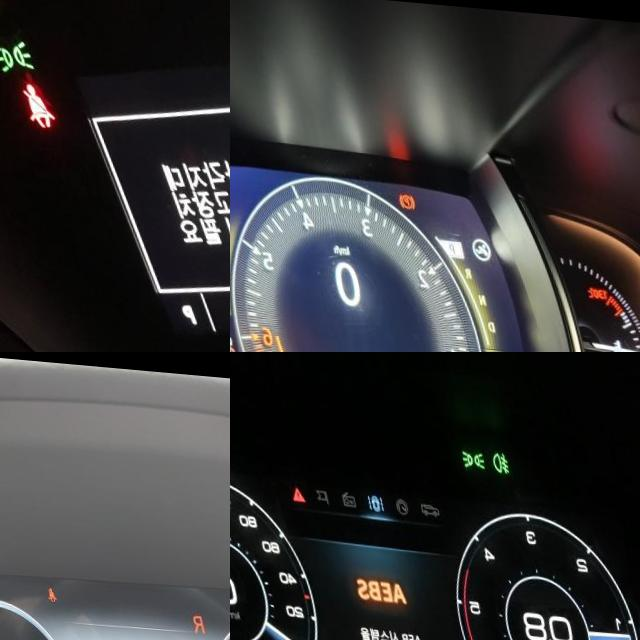FrontFogLight: (485, 442, 504, 465)
SideLamp: (0, 34, 30, 73), (456, 442, 481, 461)
